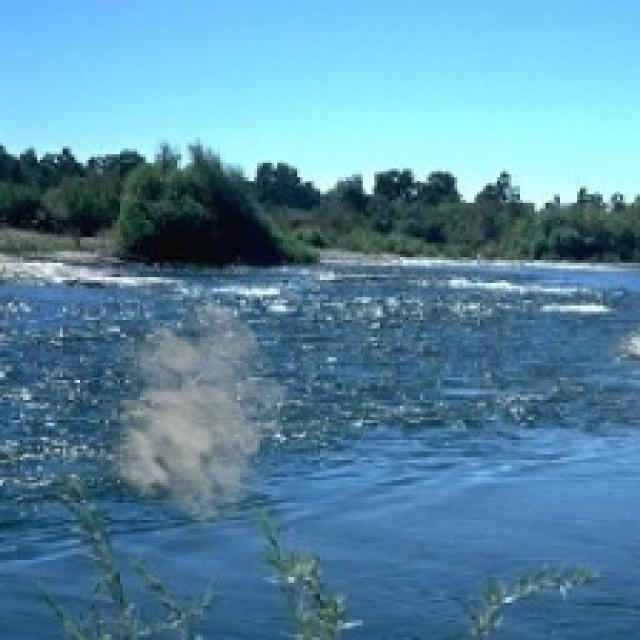smoke: (74, 286, 297, 540)
